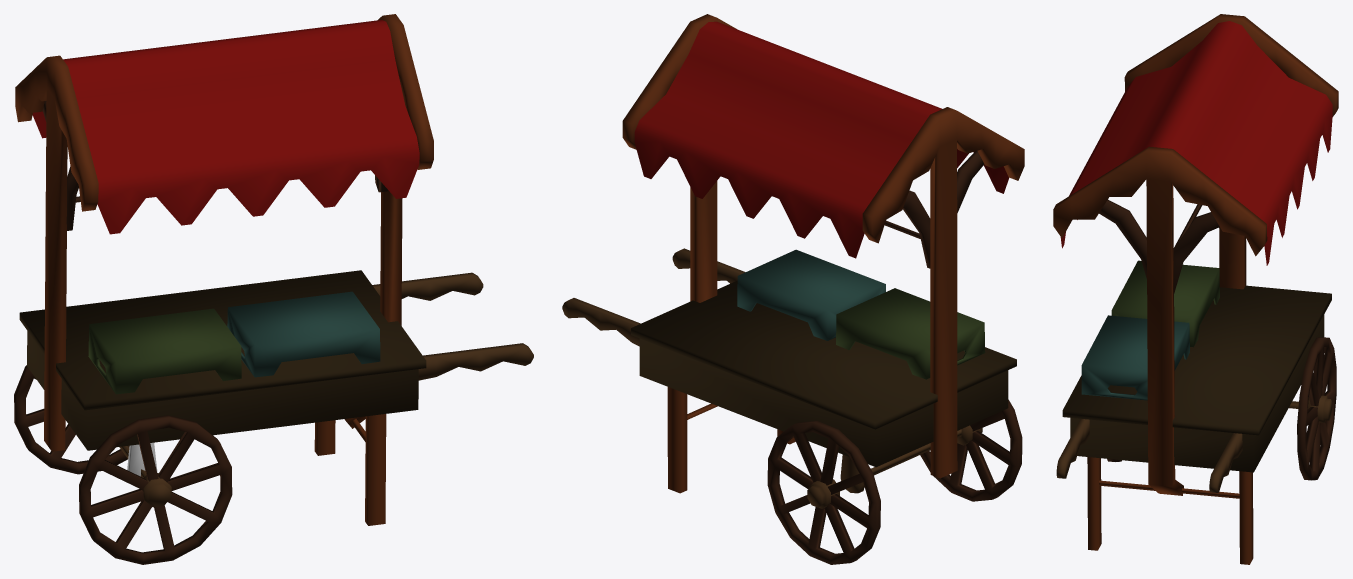
Rendered from Cart_Market.fbx.
3 views of the same model, side by side, from view 1: azimuth 30°, elevation 25°; view 2: azimuth 150°, elevation 25°; view 3: azimuth 270°, elevation 25° (orthographic). The views are drawn at different scales.
Visible parts, largest first — view 1: WoodCart; view 2: WoodCart; view 3: WoodCart.
Part boxes in pixels (<box>): WoodCart: <box>14,14,533,564</box>; WoodCart: <box>562,14,1024,564</box>; WoodCart: <box>1053,14,1338,564</box>.
Size of the model in its own units: 2.35 by 1.44 by 2.34.
